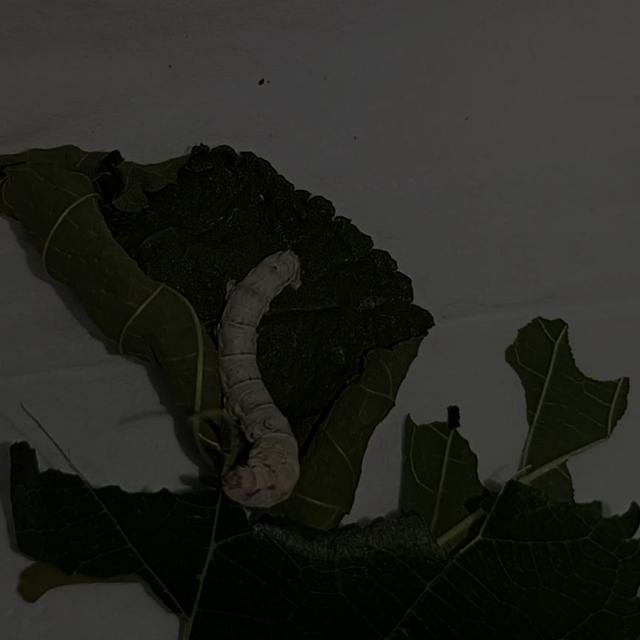Healthy: (202, 233, 315, 526)
